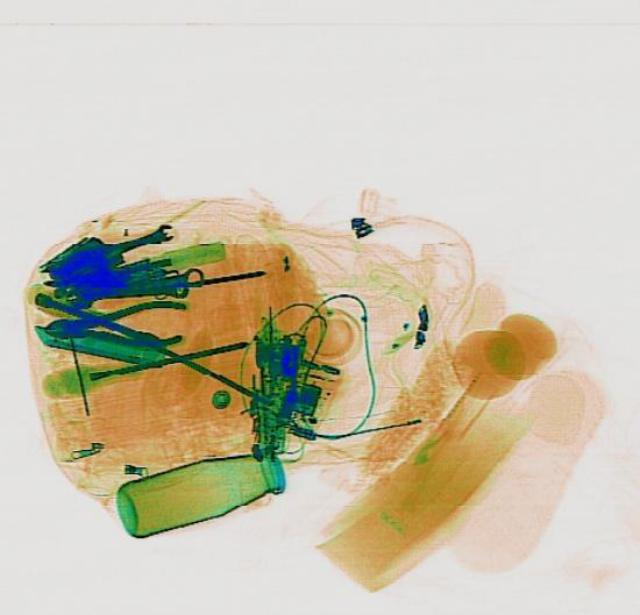Pliers: (40, 297, 186, 352)
Wrench: (102, 219, 176, 257)
